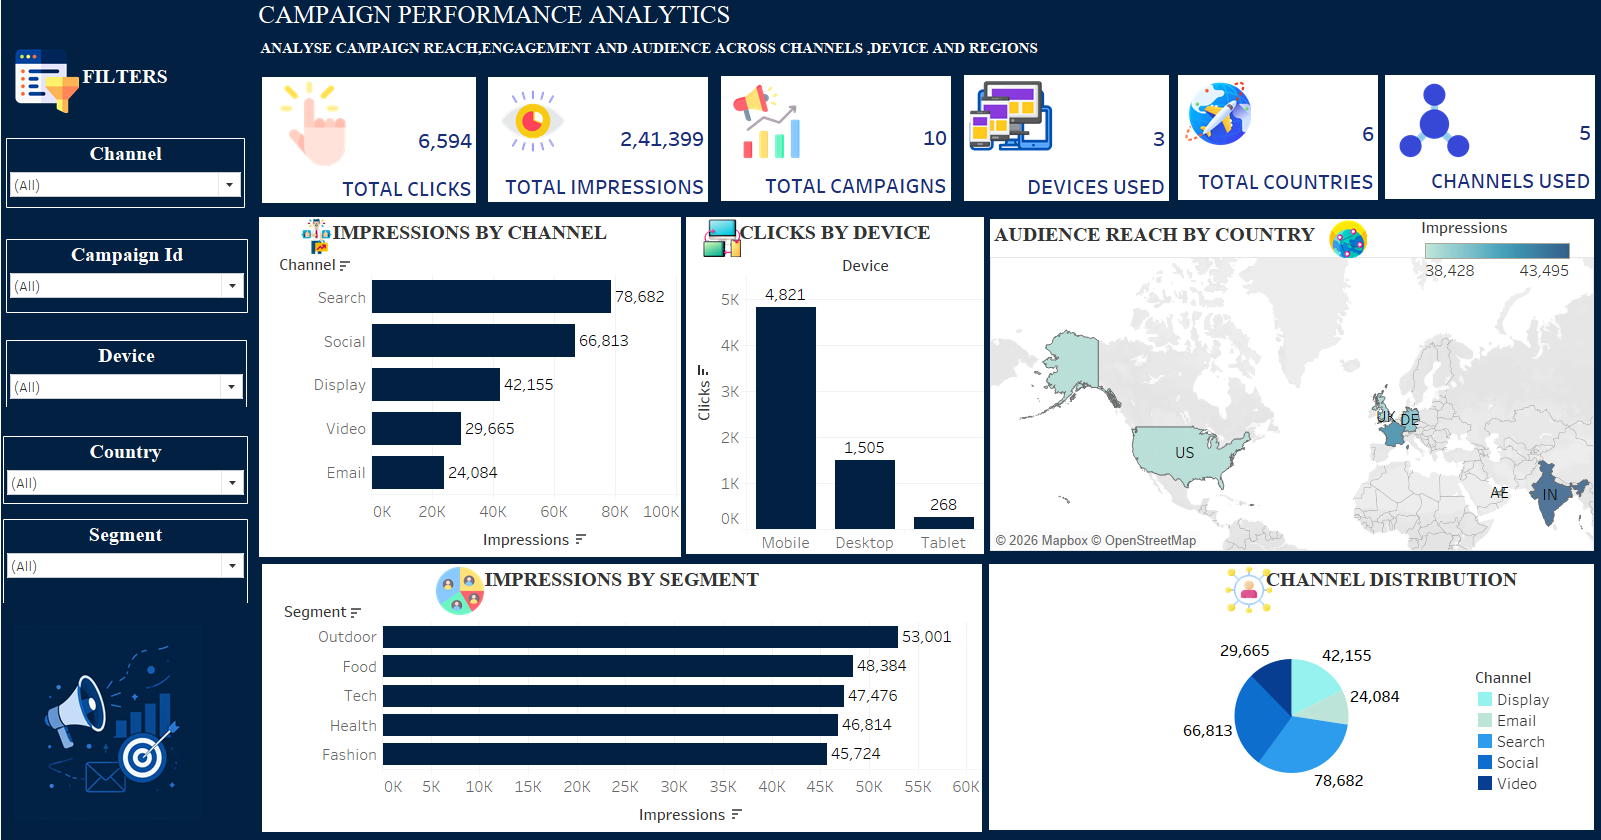

The page's visual inventory and layout, read from the dashboard file:
{"tool":"tableau","page":{"name":"Dashboard 1","canvas":[1000,1000],"units":"permille","ordinal":0},"visuals":[{"type":"title","box":[4.9,10,990.1,39.9]},{"type":"image","param":"Image/filter (1).png","box":[9.9,29.9,42,67.3]},{"type":"text","box":[15.4,34.9,82.1,58.6]},{"type":"text","box":[107.4,41.1,883.3,33.7]},{"type":"worksheet","title":"Sheet 6","mark":"Automatic","box":[849.4,68.6,130.9,167.1]},{"type":"worksheet","title":"Sheet 5","mark":"Automatic","box":[703.1,69.8,124.1,168.3]},{"type":"worksheet","title":"Sheet 4","mark":"Automatic","box":[553.1,73.6,127.8,165.8]},{"type":"image","param":"Image/cursor (2).png","box":[553.7,74.8,57.4,94.8]},{"type":"image","param":"Image/target.png","box":[851.2,76.1,42,103.5]},{"type":"worksheet","title":"Sheet 3","mark":"Automatic","box":[406.2,77.3,127.2,160.8]},{"type":"worksheet","title":"Sheet 1","mark":"Automatic","box":[129.6,78.5,124.7,158.3]},{"type":"worksheet","title":"Sheet 2","mark":"Automatic","box":[267.3,79.8,124.7,158.3]},{"type":"image","param":"Image/percentage (1).png","box":[706.8,81,61.7,96]},{"type":"image","param":"Image/wallet.png","box":[270.4,83.5,54.9,83.5]},{"type":"image","param":"Image/roi.png","box":[408.6,83.5,54.3,96]},{"type":"image","param":"Image/bar-chart.png","box":[410.5,83.5,67.9,87.3]},{"type":"image","param":"Image/dollar-sign (2).png","box":[132.1,84.8,54.3,93.5]},{"type":"image","param":"Image/revenue.png","box":[133.3,86,55.6,93.5]},{"type":"filter","title":"Sheet 7","param":"[federated.1ct586s1gfhmox1gll9d407dz4eg].[none:channel:nk]","box":[4.3,112.2,124.1,79.8]},{"type":"filter","title":"Sheet 9","param":"[federated.1ct586s1gfhmox1gll9d407dz4eg].[none:segment:nk]","box":[3.7,228.2,124.1,64.8]},{"type":"worksheet","title":"Sheet 7","mark":"Automatic","rows":["Calculation_756041798222548992"],"cols":["channel"],"box":[131.5,255.6,314.8,327.9]},{"type":"worksheet","title":"Sheet 9","mark":"Automatic","rows":["Calculation_756041798223523844"],"cols":["segment"],"box":[731.5,255.6,248.8,324.2]},{"type":"worksheet","title":"Sheet 10","mark":"Automatic","rows":["Calculation_756041798223437827"],"cols":["device"],"box":[448.2,256.9,280.9,324.2]},{"type":"image","param":"Image/growth.png","box":[169.8,261.9,66.7,68.6]},{"type":"image","param":"Image/bar-chart (1).png","box":[480.2,261.9,45.7,74.8]},{"type":"image","param":"Image/responsive-design.png","box":[488.9,263.1,57.4,72.3]},{"type":"image","param":"Image/pie-chart.png","box":[734.6,271.8,43.2,73.6]},{"type":"text","box":[640.7,335.4,61.7,37.4]},{"type":"image","param":"Image/demographic.png","box":[464.8,364.1,84.6,139.7]},{"type":"filter","title":"Sheet 10","param":"[federated.1ct586s1gfhmox1gll9d407dz4eg].[none:device:nk]","box":[6.2,370.3,121.6,62.3]},{"type":"filter","title":"Sheet 11","param":"[federated.1ct586s1gfhmox1gll9d407dz4eg].[none:country:nk]","box":[7.4,473.8,120.4,59.9]},{"type":"image","param":"Image/web.png","box":[33.3,476.3,13.6,32.4]},{"type":"worksheet","title":"Sheet 8","mark":"Automatic","rows":["channel"],"cols":["Calculation_756041798223163394"],"box":[130.9,588.5,415.4,397.8]},{"type":"worksheet","title":"Sheet 11","mark":"Automatic","box":[550.6,591,432.7,396.5]},{"type":"image","param":"Image/world.png","box":[665.4,591,28.4,52.4]},{"type":"image","param":"Image/rising.png","box":[250,594.8,51.9,73.6]},{"type":"legend","title":"Sheet 11","param":"[federated.1ct586s1gfhmox1gll9d407dz4eg].[sum:revenue_usd:qk]","box":[843.2,594.8,138.3,46.1]},{"type":"image","param":"Image/cash-flow.png","box":[666.7,595.3,23.5,44.1]},{"type":"image","param":"Image/share.png","box":[236.4,608.5,37,62.3]},{"type":"image","param":"Image/Screenshot 2026-06-14 105338.png","box":[12.3,614.7,113,350.4]}]}

Visuals, with their boxes on the dashboard's canvas, which has no fixed pixel size, in thousandths of its width and height (x1, y1, x2, y2). These are canvas units, not pixel positions in the 1601x840 screenshot, which may show the page scaled, cropped or inside an application window:
title: 5,10,995,50
image: 10,30,52,97
text: 15,35,98,94
text: 107,41,991,75
"Sheet 6" worksheet: 849,69,980,236
"Sheet 5" worksheet: 703,70,827,238
"Sheet 4" worksheet: 553,74,681,239
image: 554,75,611,170
image: 851,76,893,180
"Sheet 3" worksheet: 406,77,533,238
"Sheet 1" worksheet: 130,78,254,237
"Sheet 2" worksheet: 267,80,392,238
image: 707,81,768,177
image: 270,84,325,167
image: 409,84,463,180
image: 410,84,478,171
image: 132,85,186,178
image: 133,86,189,180
"Sheet 7" filter: 4,112,128,192
"Sheet 9" filter: 4,228,128,293
"Sheet 7" worksheet: 132,256,446,584
"Sheet 9" worksheet: 732,256,980,580
"Sheet 10" worksheet: 448,257,729,581
image: 170,262,236,330
image: 480,262,526,337
image: 489,263,546,335
image: 735,272,778,345
text: 641,335,702,373
image: 465,364,549,504
"Sheet 10" filter: 6,370,128,433
"Sheet 11" filter: 7,474,128,534
image: 33,476,47,509
"Sheet 8" worksheet: 131,588,546,986
"Sheet 11" worksheet: 551,591,983,988
image: 665,591,694,643
image: 250,595,302,668
"Sheet 11" legend: 843,595,982,641
image: 667,595,690,639
image: 236,608,273,671
image: 12,615,125,965
